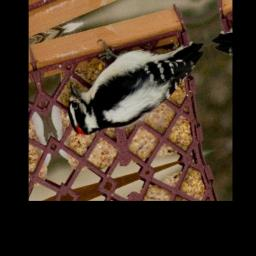Woodpecker: (55, 7, 215, 142)
